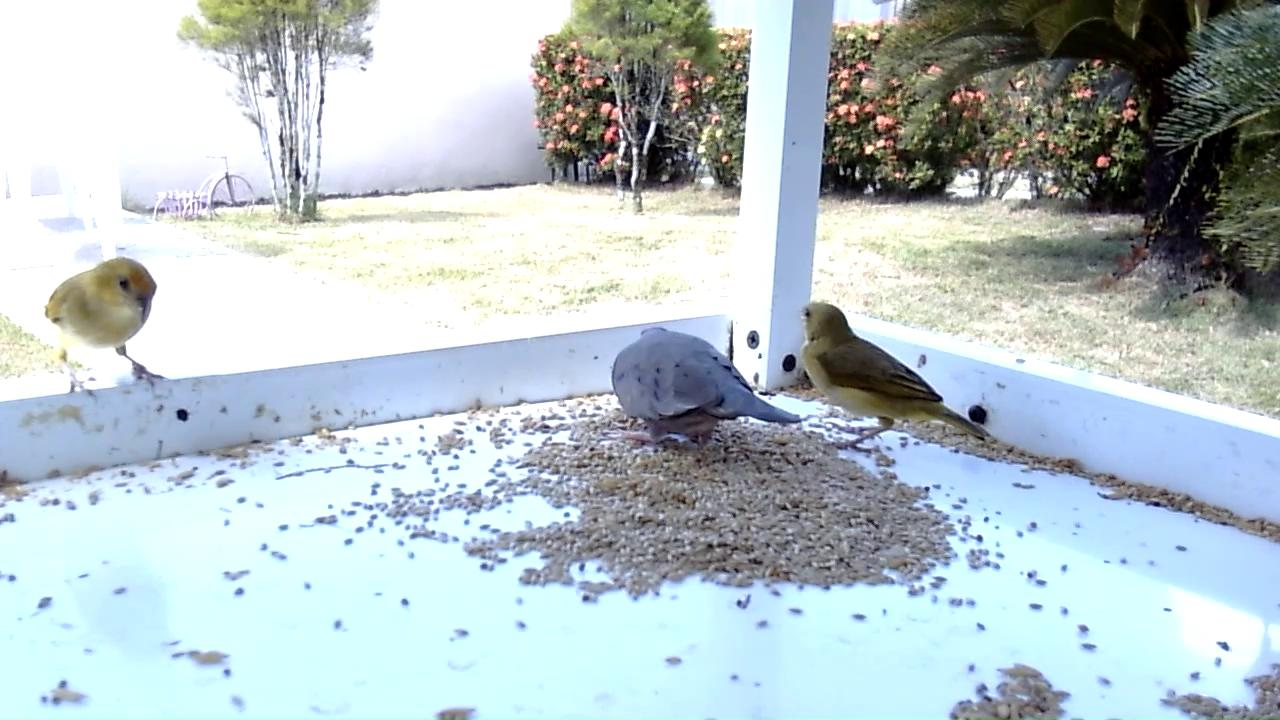canario_do_amazonas: (797, 300, 992, 456), (41, 255, 170, 401)
rolinha: (609, 325, 804, 449)
